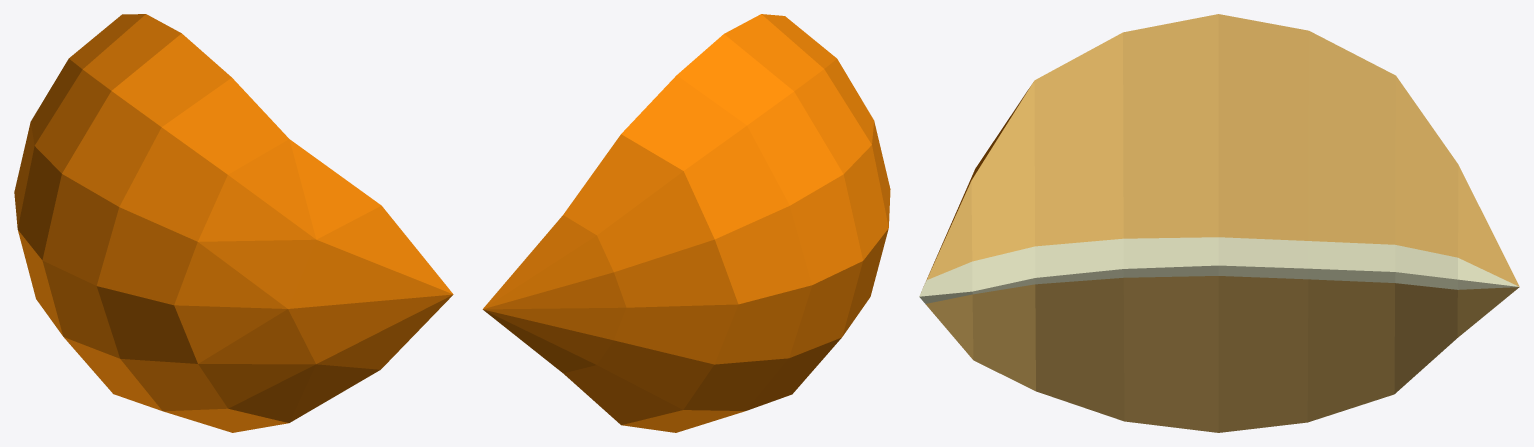
Rendered from Orange Slice.fbx.
3 views of the same model, side by side, from view 1: azimuth 30°, elevation 25°; view 2: azimuth 150°, elevation 25°; view 3: azimuth 270°, elevation 25° (orthographic). The views are drawn at different scales.
Visible parts, largest first — view 1: Orange Slice; view 2: Orange Slice; view 3: Orange Slice.
Boxes of the visible parts, x1,y1,x2,y2 form: Orange Slice: (14,14,453,432); Orange Slice: (482,14,890,432); Orange Slice: (919,14,1519,432).
Bounding box in the file's own units: 7.51 × 10.04 × 13.07.
